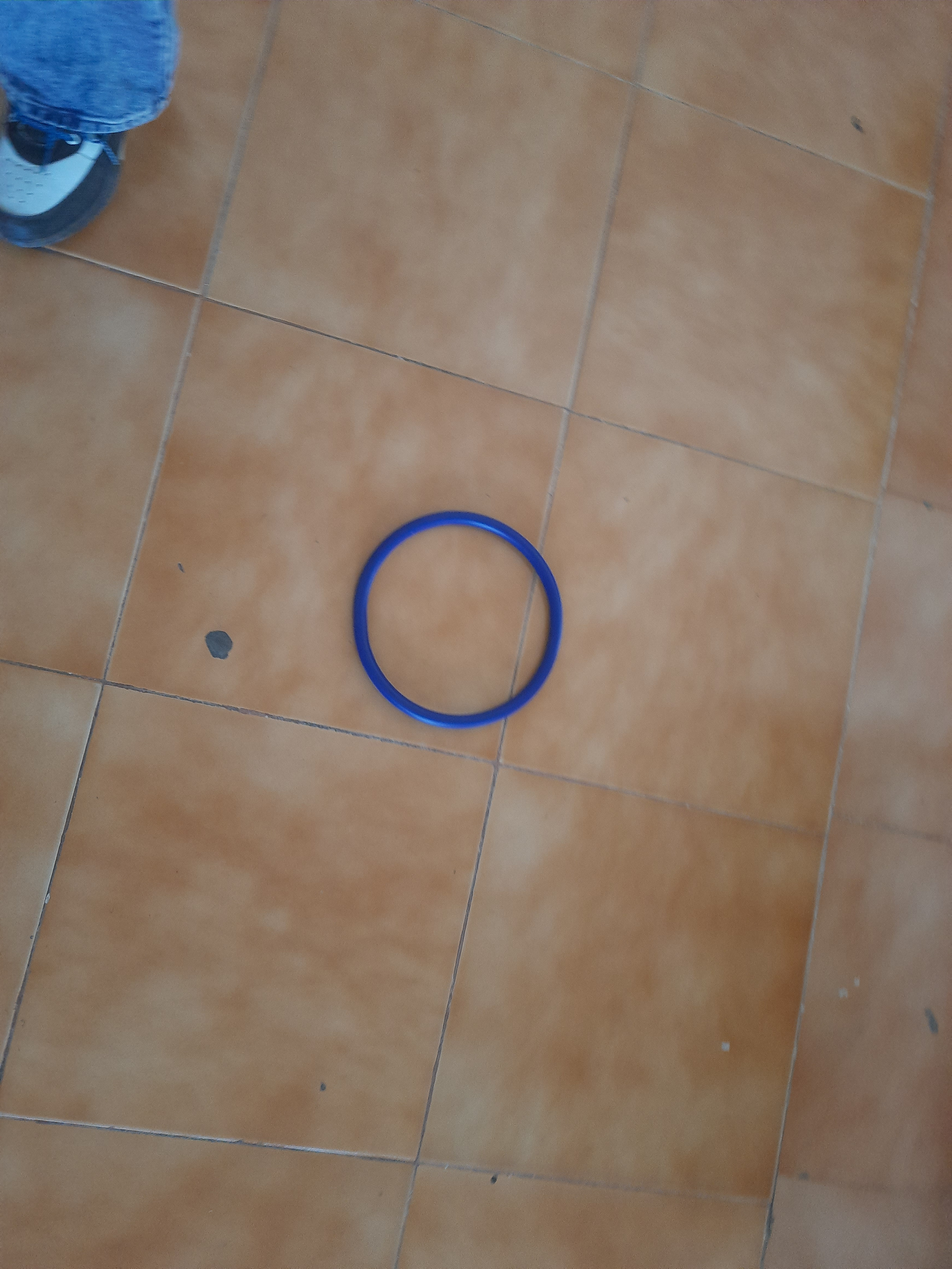Blue ring: (353, 510, 562, 729)
